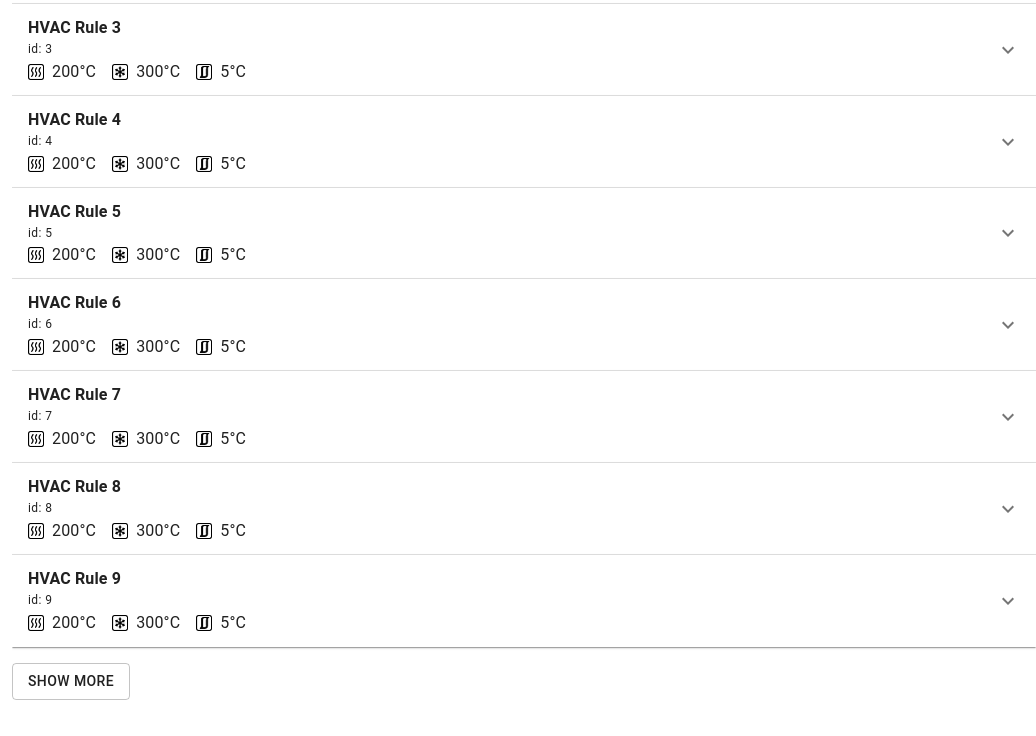
Test: <HVACList /> › should load more items on show more button clicked and hide button
(page scrolled)
What coordinates should you click on to do the following:
click the button with test id "show-more-button"
I would click on:
 (71, 681)
Its box is [12,663,130,700].
(page scrolled)
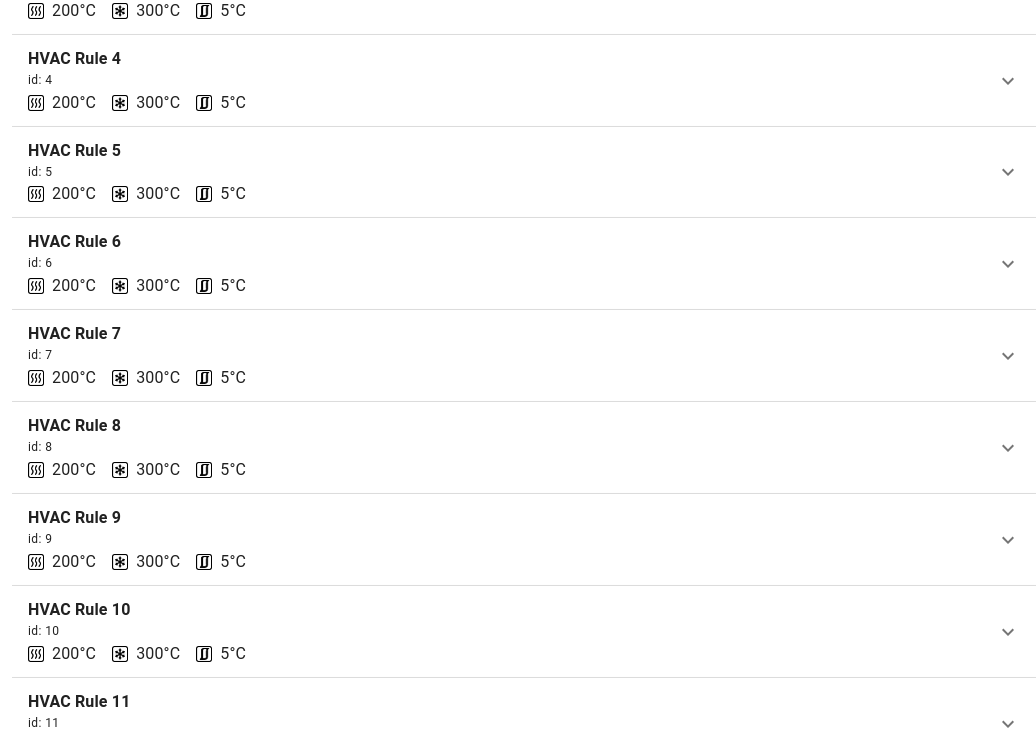
Result: the button with test id "show-more-button" is gone
